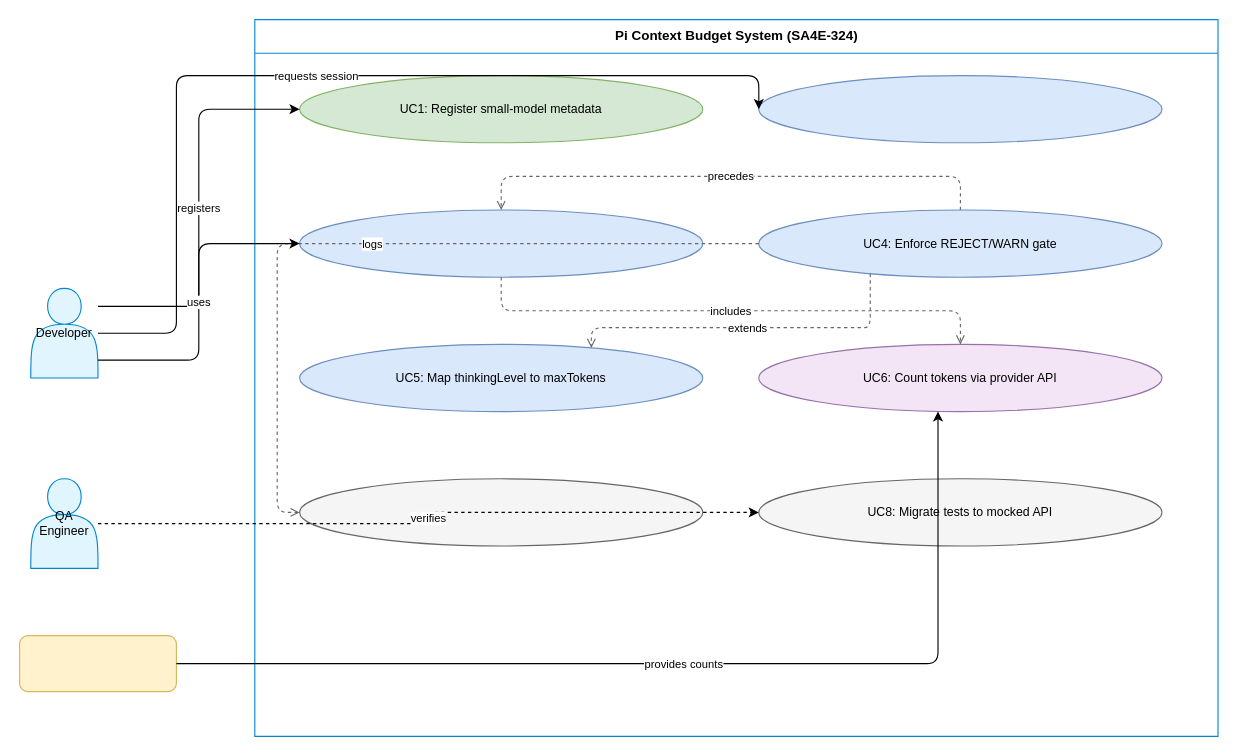
Image size: 1238x756. Some labels were removed from this diagram. The box of each missing label's shape, as (x1, y1, x2, y2) in pixels:
Provider API: (18, 634, 176, 692)
UC2: Resolve model + fallback: (758, 74, 1162, 143)
UC3: Calculate pre-session budget: (298, 209, 703, 277)
UC7: Record diagnostics + logs: (298, 478, 703, 546)
